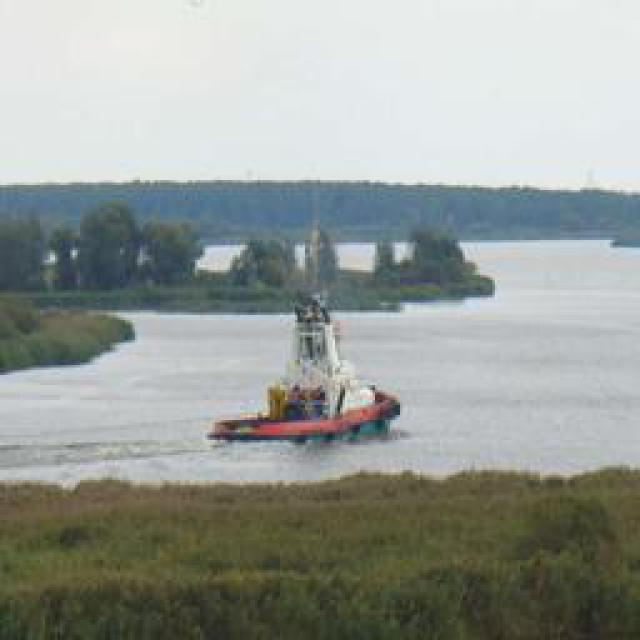Ship: (207, 256, 400, 451)
